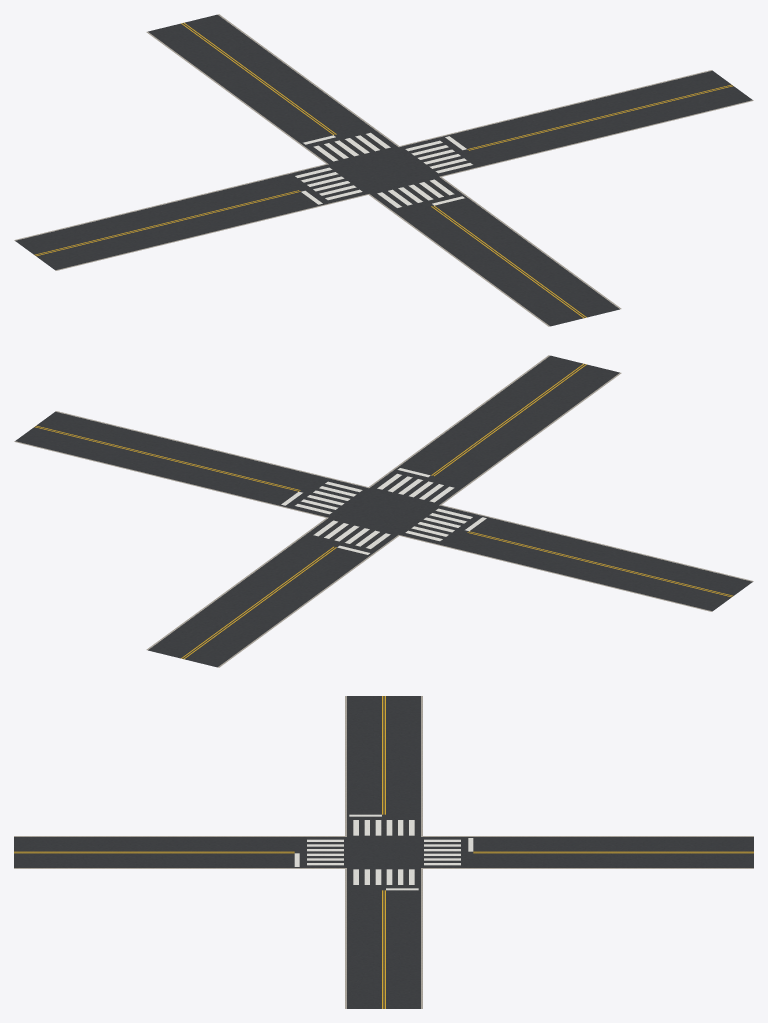
Rendered from road_a_FourWay.gltf.
3 views of the same model, one above another, from view 1: azimuth 30°, elevation 25°; view 2: azimuth 150°, elevation 25°; view 3: azimuth 270°, elevation 25° (orthographic). The views are drawn at different scales.
Parts seen in each view (by area): view 1: road_a_FourWay; view 2: road_a_FourWay; view 3: road_a_FourWay.
Boxes of the visible parts, x1,y1,x2,y2 form: road_a_FourWay: (14,14,753,326); road_a_FourWay: (14,355,753,667); road_a_FourWay: (14,696,753,1008).
Size of the model in its own units: 60 by 0.0045 by 60.
Materials: 2 (2 with a texture image).
